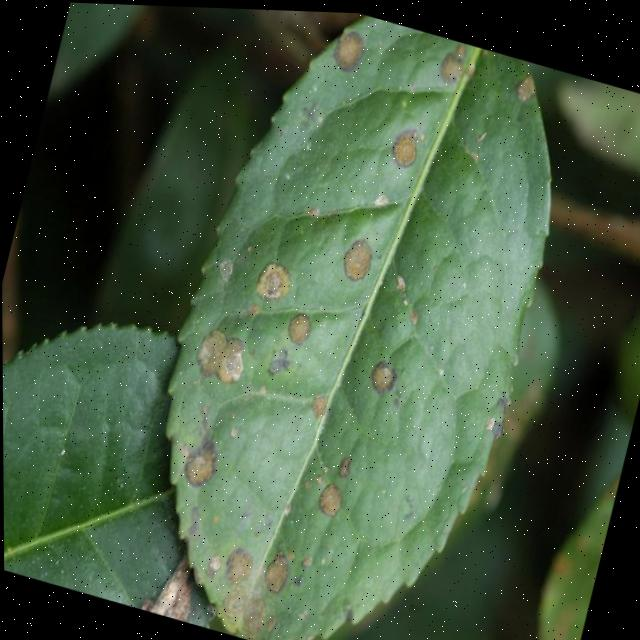Tea algae leaf spot: (140, 10, 555, 640)
